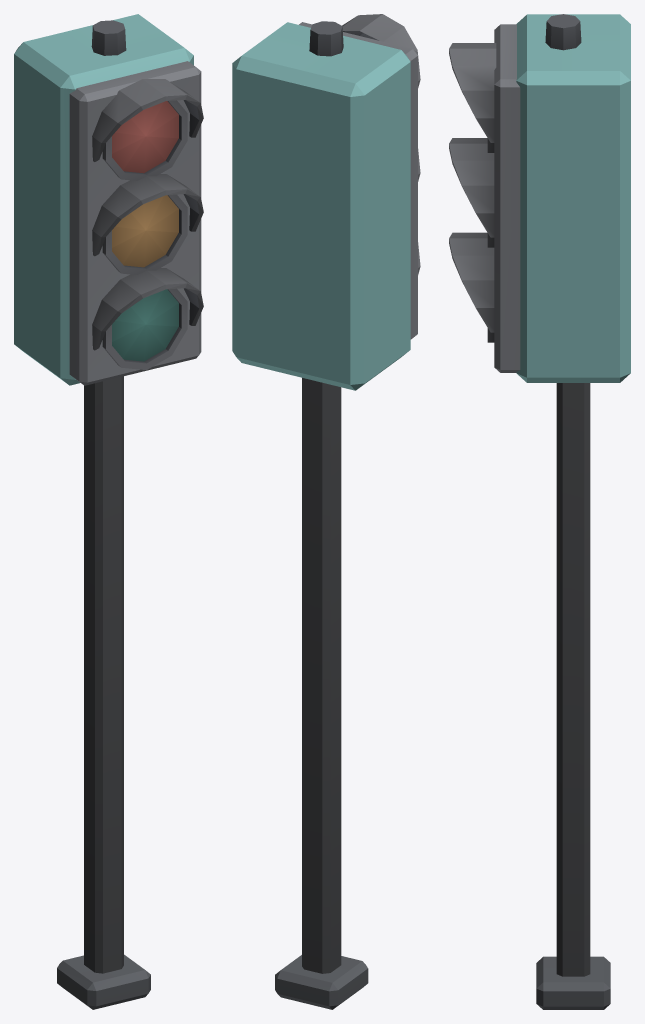
The model's file is light.glb.
3 renders of one model, left to right at view 1: azimuth 30°, elevation 25°; view 2: azimuth 150°, elevation 25°; view 3: azimuth 270°, elevation 25°, orthographic.
Visible parts, largest first — view 1: light; view 2: light; view 3: light.
Part boxes in pixels (left/top/right/bottom): light: left=14, top=14, right=203, bottom=1009; light: left=232, top=14, right=420, bottom=1009; light: left=449, top=14, right=630, bottom=1009.
Size of the model in its own units: 0.46 by 3.19 by 0.539.
